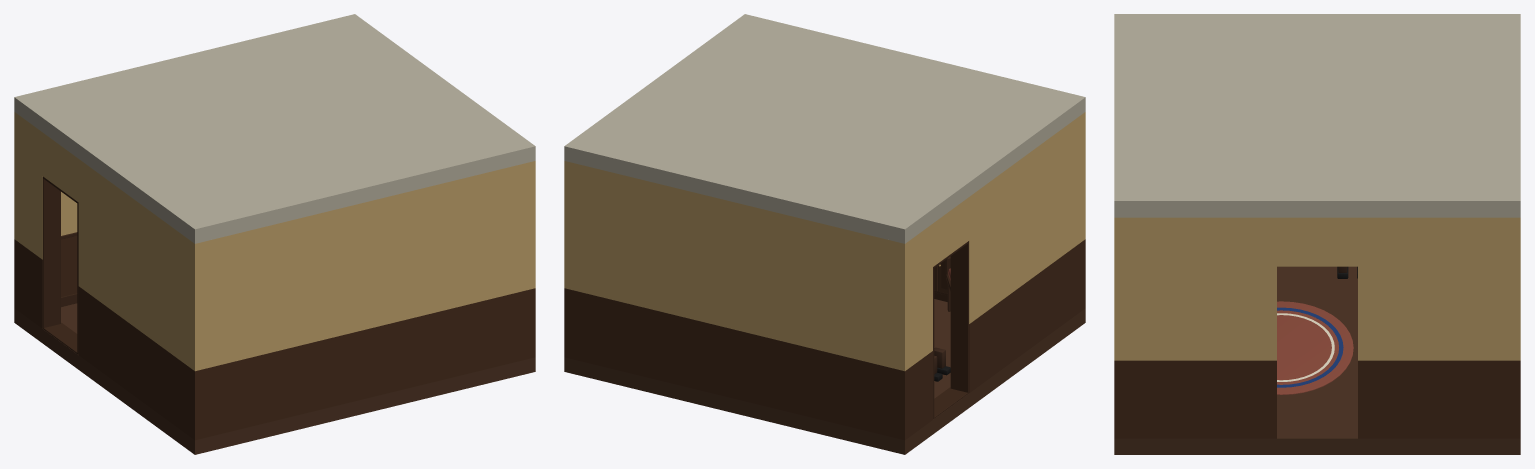
File: room_cell.glb
3 views of the same model, side by side, from view 1: azimuth 30°, elevation 25°; view 2: azimuth 150°, elevation 25°; view 3: azimuth 270°, elevation 25° (orthographic). The views are drawn at different scales.
Visible parts, largest first — view 1: wall_s, ceiling, wall_w, floor, trim, wall_n; view 2: wall_n, ceiling, wall_w, floor, trim, wall_s, furniture; view 3: ceiling, wall_e, floor, rug, wall_n, wall_s.
Boxes of the visible parts, box(x1,y1,x2,y2) form: wall_s: box(185, 161, 535, 440); ceiling: box(14, 14, 535, 243); wall_w: box(24, 119, 184, 432); floor: box(14, 303, 535, 454); trim: box(42, 176, 78, 354); wall_n: box(14, 112, 77, 314); wall_n: box(564, 161, 914, 440); ceiling: box(564, 14, 1085, 243); wall_w: box(915, 119, 1075, 432); floor: box(564, 299, 1085, 454); trim: box(933, 241, 968, 419); wall_s: box(1075, 112, 1085, 314); furniture: box(934, 256, 950, 311); ceiling: box(1114, 14, 1520, 217); wall_e: box(1136, 217, 1498, 438); floor: box(1114, 266, 1520, 454); rug: box(1277, 301, 1353, 394); wall_n: box(1498, 217, 1520, 438); wall_s: box(1114, 217, 1136, 438).
Bounding box in the file's own units: 4.9 × 3.1 × 4.5.
